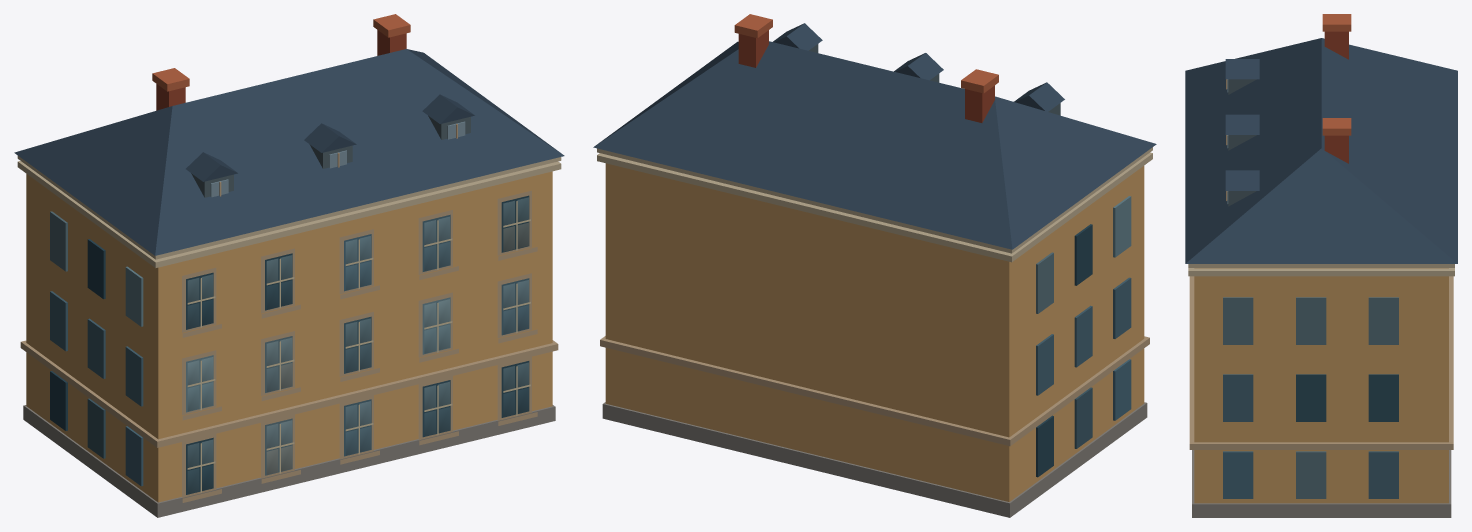
File: ochre-tenement-distance.glb
The picture shows the model from 3 angles, left to right: view 1: azimuth 30°, elevation 25°; view 2: azimuth 150°, elevation 25°; view 3: azimuth 270°, elevation 25°; orthographic projection. The views are drawn at different scales.
Parts seen in each view (by area): view 1: ochre-tenement-distance; view 2: ochre-tenement-distance; view 3: ochre-tenement-distance.
Boxes of the visible parts, x1=… form: ochre-tenement-distance: x1=14, y1=14, x2=564, y2=517; ochre-tenement-distance: x1=593, y1=14, x2=1156, y2=517; ochre-tenement-distance: x1=1185, y1=14, x2=1457, y2=517.
Size of the model in its own units: 15.06 by 12.83 by 8.99.
